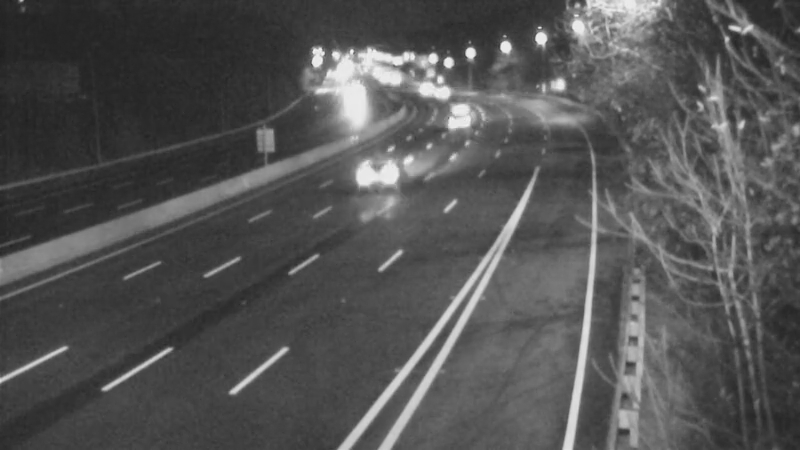vehicle: (331, 136, 411, 216), (399, 64, 449, 114), (413, 69, 463, 119), (433, 88, 483, 138), (326, 78, 376, 128)
